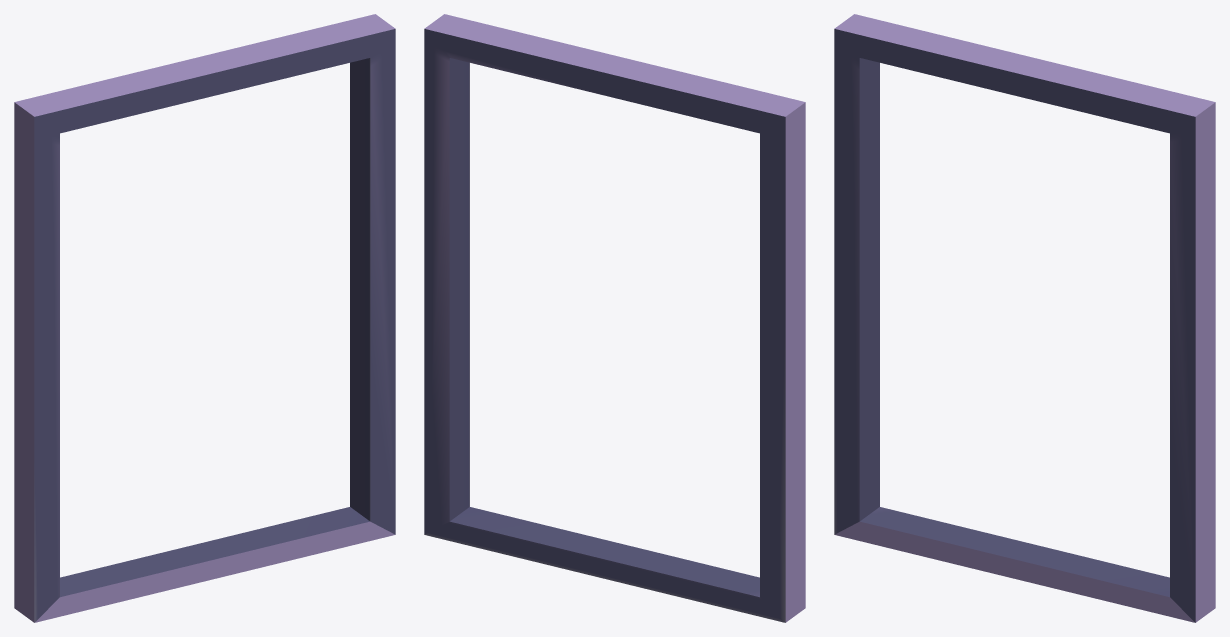
File: marco_puerta.obj
3 views of the same model, side by side, from view 1: azimuth 30°, elevation 25°; view 2: azimuth 150°, elevation 25°; view 3: azimuth 330°, elevation 25° (orthographic).
Visible parts, largest first — view 1: marco_Cubo.002; view 2: marco_Cubo.002; view 3: marco_Cubo.002.
Part boxes in pixels (x1,y1,x2,y2): marco_Cubo.002: [14, 14, 395, 622]; marco_Cubo.002: [424, 14, 805, 622]; marco_Cubo.002: [834, 14, 1215, 622].
Bounding box in the file's own units: 2.63 × 3.52 × 0.2546.
